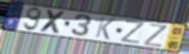3: (70, 14, 94, 38)
9: (23, 7, 43, 32)
K: (93, 16, 116, 42)
X: (39, 9, 68, 37)
Z: (118, 19, 146, 45), (143, 22, 169, 49)
